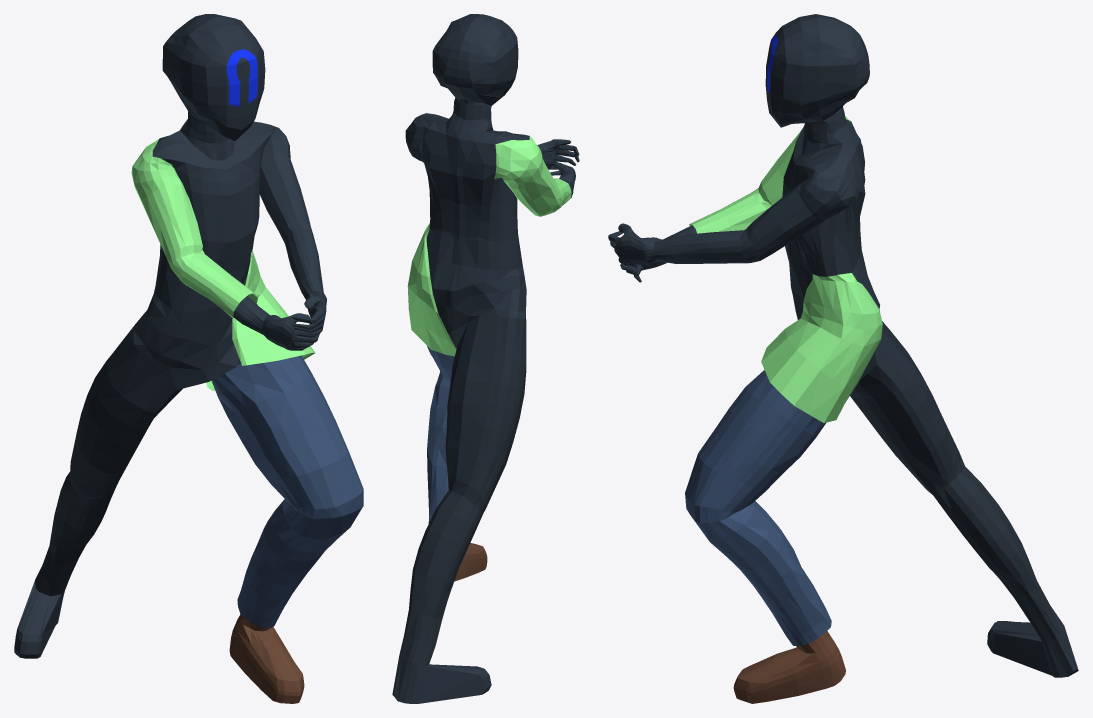
The model's file is Mar_WB_000026.obj.
The picture shows the model from 3 angles, left to right: view 1: azimuth 30°, elevation 25°; view 2: azimuth 150°, elevation 25°; view 3: azimuth 270°, elevation 25°; orthographic projection. The views are drawn at different scales.
Visible parts, largest first — view 1: Cube.000_Cube.001; view 2: Cube.000_Cube.001; view 3: Cube.000_Cube.001.
Part boxes in pixels (x1,y1,x2,y2): Cube.000_Cube.001: (14, 14, 363, 703); Cube.000_Cube.001: (392, 14, 579, 703); Cube.000_Cube.001: (608, 14, 1078, 703).
Size of the model in its own units: 1.1 by 3.66 by 2.3.
